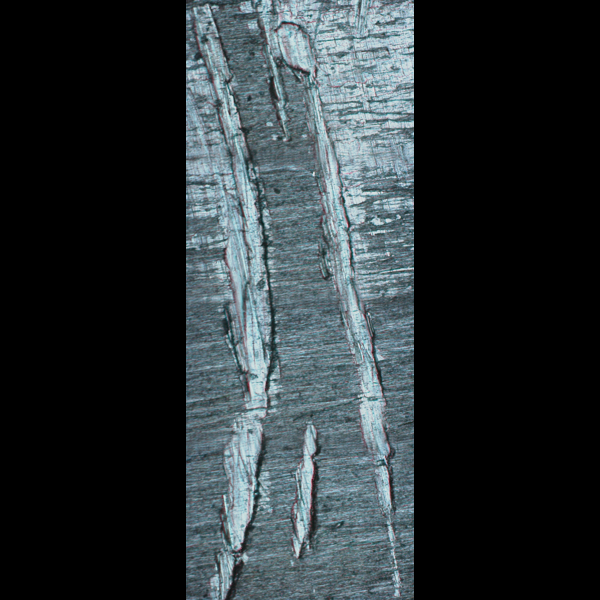d: (240, 0, 411, 596), (186, 0, 279, 599), (283, 415, 326, 562)
